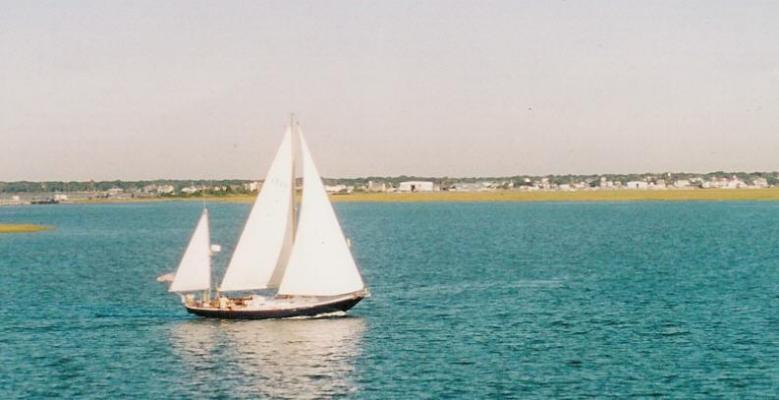Ship: (169, 116, 365, 319)
